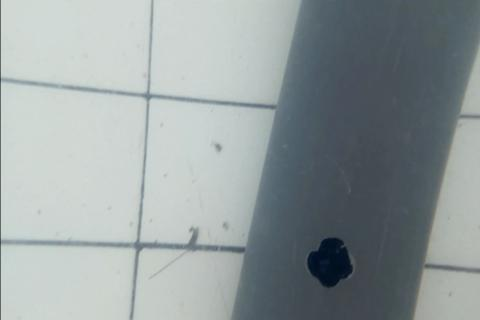kebocoran: (306, 233, 356, 291)
